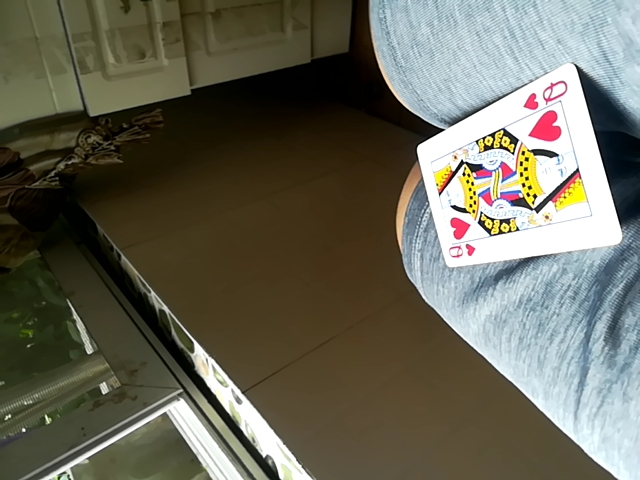hx q: (408, 71, 616, 271)
